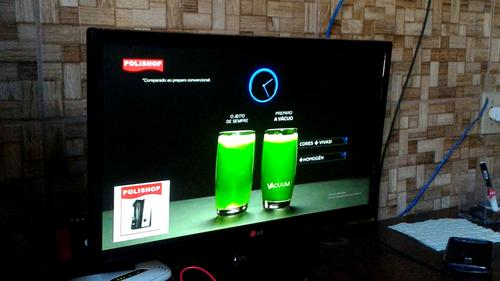Polishop #1: (111, 178, 169, 241)
